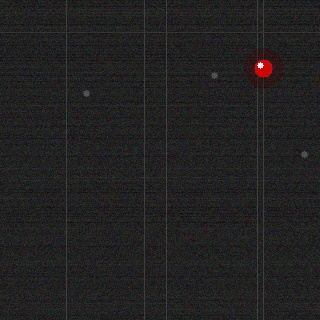red_fault: (252, 57, 274, 79)
